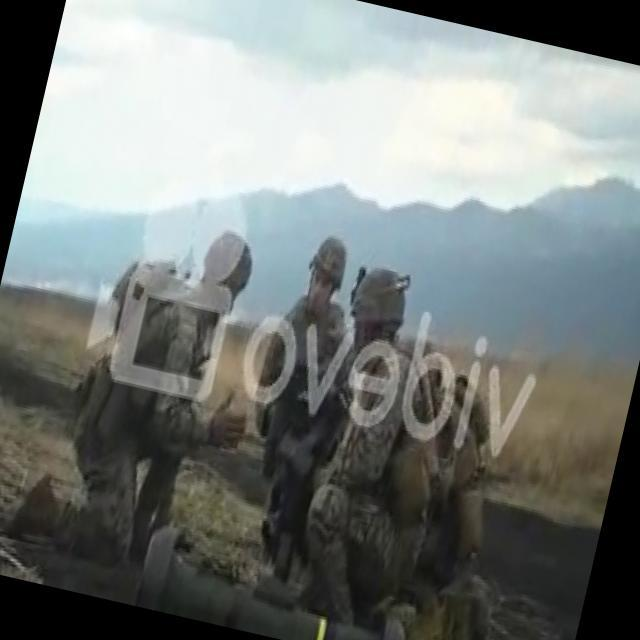rocket: (139, 528, 411, 640)
